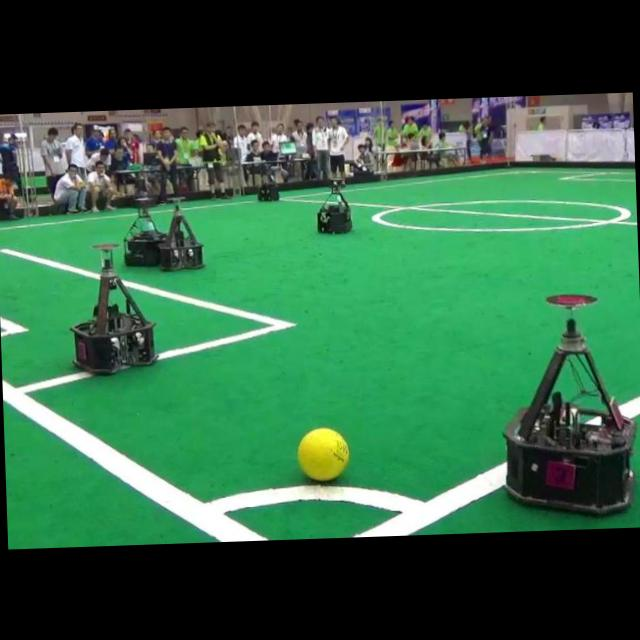ball: (297, 427, 349, 480)
robot: (504, 294, 635, 513), (70, 243, 155, 372), (160, 196, 203, 269), (123, 197, 166, 265), (316, 178, 352, 232), (257, 164, 279, 200)
